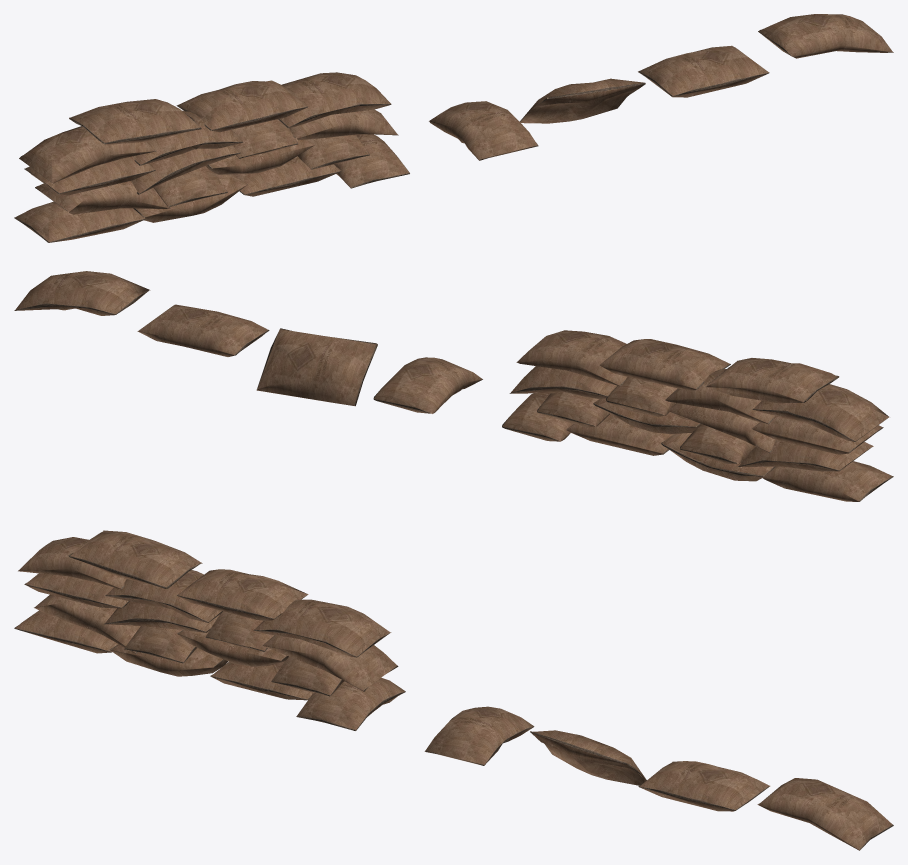
File: sandwall.glb
The picture shows the model from 3 angles, top to bottom: view 1: azimuth 30°, elevation 25°; view 2: azimuth 150°, elevation 25°; view 3: azimuth 330°, elevation 25°; orthographic projection.
Visible parts, largest first — view 1: Cube_16_Mat_0, Cube_11_Mat_0, Cube_17_Mat_0, Cube_44_Mat_0, Cube_14_Mat_0, Cube_12_Mat_0, Cube_8_Mat_0, Cube_15_Mat_0, Cube_45_Mat_0, Cube_23_Mat_0, Cube_13_Mat_0, Cube_9_Mat_0 (+9 smaller); view 2: Cube_15_Mat_0, Cube_16_Mat_0, Cube_11_Mat_0, Cube_44_Mat_0, Cube_17_Mat_0, Cube_12_Mat_0, Cube_14_Mat_0, Cube_8_Mat_0, Cube_45_Mat_0, Cube_23_Mat_0, Cube_9_Mat_0, Cube_1_Mat_0 (+9 smaller); view 3: Cube_17_Mat_0, Cube_8_Mat_0, Cube_44_Mat_0, Cube_16_Mat_0, Cube_11_Mat_0, Cube_14_Mat_0, Cube_6_Mat_0, Cube_15_Mat_0, Cube_13_Mat_0, Cube_12_Mat_0, Cube_10_Mat_0, Cube_23_Mat_0 (+9 smaller).
Part boxes in pixels (left/top/right/bottom): Cube_16_Mat_0: left=638, top=45, right=769, bottom=97; Cube_11_Mat_0: left=176, top=80, right=307, bottom=132; Cube_17_Mat_0: left=758, top=14, right=893, bottom=58; Cube_44_Mat_0: left=69, top=99, right=201, bottom=144; Cube_14_Mat_0: left=429, top=101, right=538, bottom=160; Cube_12_Mat_0: left=19, top=126, right=156, bottom=183; Cube_8_Mat_0: left=278, top=72, right=391, bottom=127; Cube_15_Mat_0: left=519, top=78, right=645, bottom=123; Cube_45_Mat_0: left=14, top=201, right=145, bottom=242; Cube_23_Mat_0: left=35, top=181, right=170, bottom=214; Cube_13_Mat_0: left=334, top=134, right=409, bottom=188; Cube_9_Mat_0: left=24, top=156, right=155, bottom=195; Cube_15_Mat_0: left=256, top=328, right=377, bottom=406; Cube_16_Mat_0: left=137, top=304, right=269, bottom=356; Cube_11_Mat_0: left=599, top=339, right=730, bottom=390; Cube_44_Mat_0: left=705, top=358, right=839, bottom=403; Cube_17_Mat_0: left=14, top=271, right=150, bottom=315; Cube_12_Mat_0: left=752, top=384, right=889, bottom=441; Cube_14_Mat_0: left=373, top=357, right=482, bottom=413; Cube_8_Mat_0: left=516, top=330, right=627, bottom=386; Cube_45_Mat_0: left=761, top=461, right=893, bottom=501; Cube_23_Mat_0: left=738, top=440, right=873, bottom=471; Cube_9_Mat_0: left=751, top=415, right=883, bottom=454; Cube_1_Mat_0: left=566, top=414, right=673, bottom=455; Cube_17_Mat_0: left=757, top=778, right=893, bottom=850; Cube_8_Mat_0: left=253, top=599, right=391, bottom=657; Cube_44_Mat_0: left=68, top=530, right=202, bottom=588; Cube_16_Mat_0: left=638, top=761, right=770, bottom=811; Cube_11_Mat_0: left=177, top=569, right=308, bottom=620; Cube_14_Mat_0: left=424, top=706, right=534, bottom=765; Cube_6_Mat_0: left=262, top=635, right=398, bottom=691; Cube_15_Mat_0: left=530, top=730, right=646, bottom=785; Cube_13_Mat_0: left=296, top=677, right=405, bottom=730; Cube_12_Mat_0: left=18, top=537, right=126, bottom=589; Cube_10_Mat_0: left=105, top=570, right=222, bottom=622; Cube_23_Mat_0: left=34, top=595, right=140, bottom=653.
Bounding box in the file's own units: 8 × 1.23 × 0.8338.
1 material, 1 textured.
